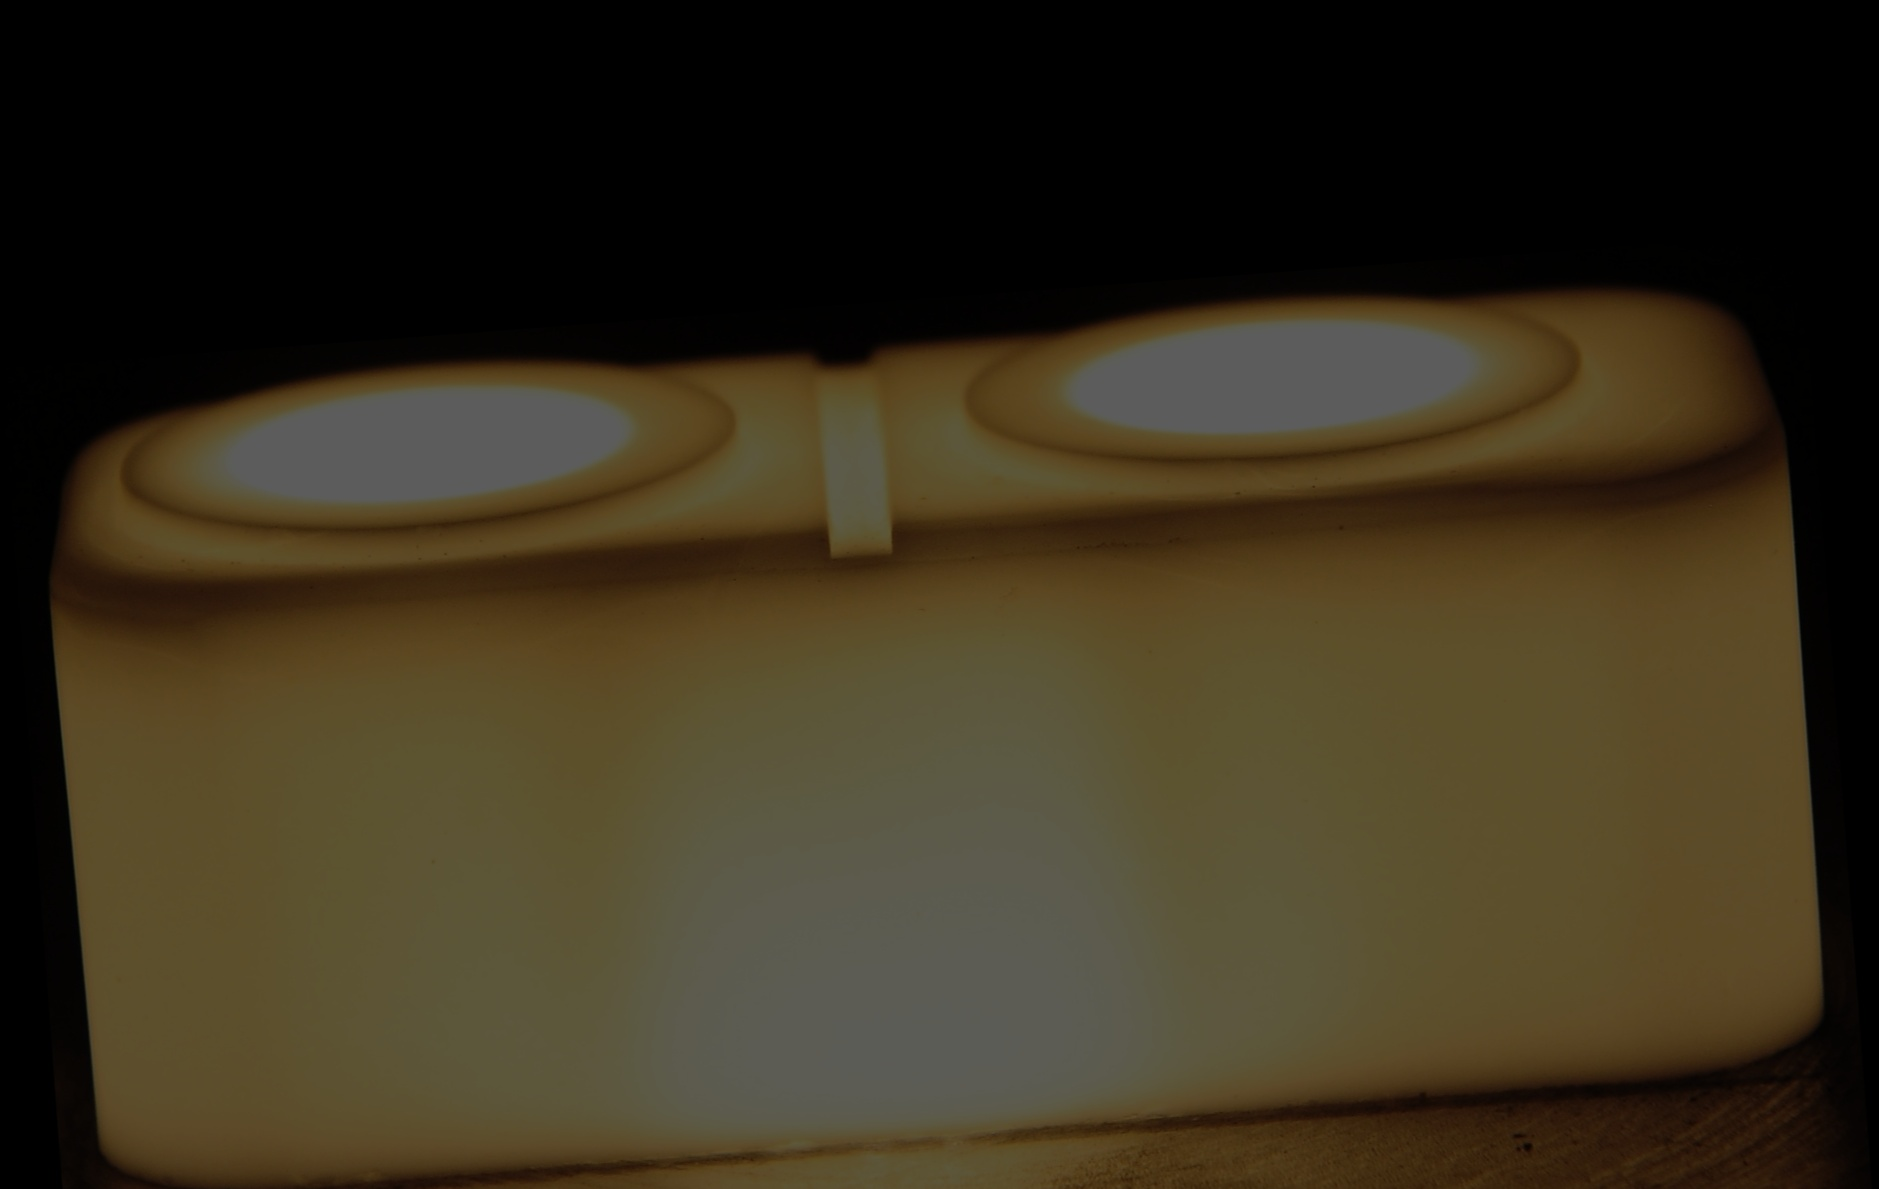flaw: (53, 599, 697, 701), (1071, 521, 1639, 612)
